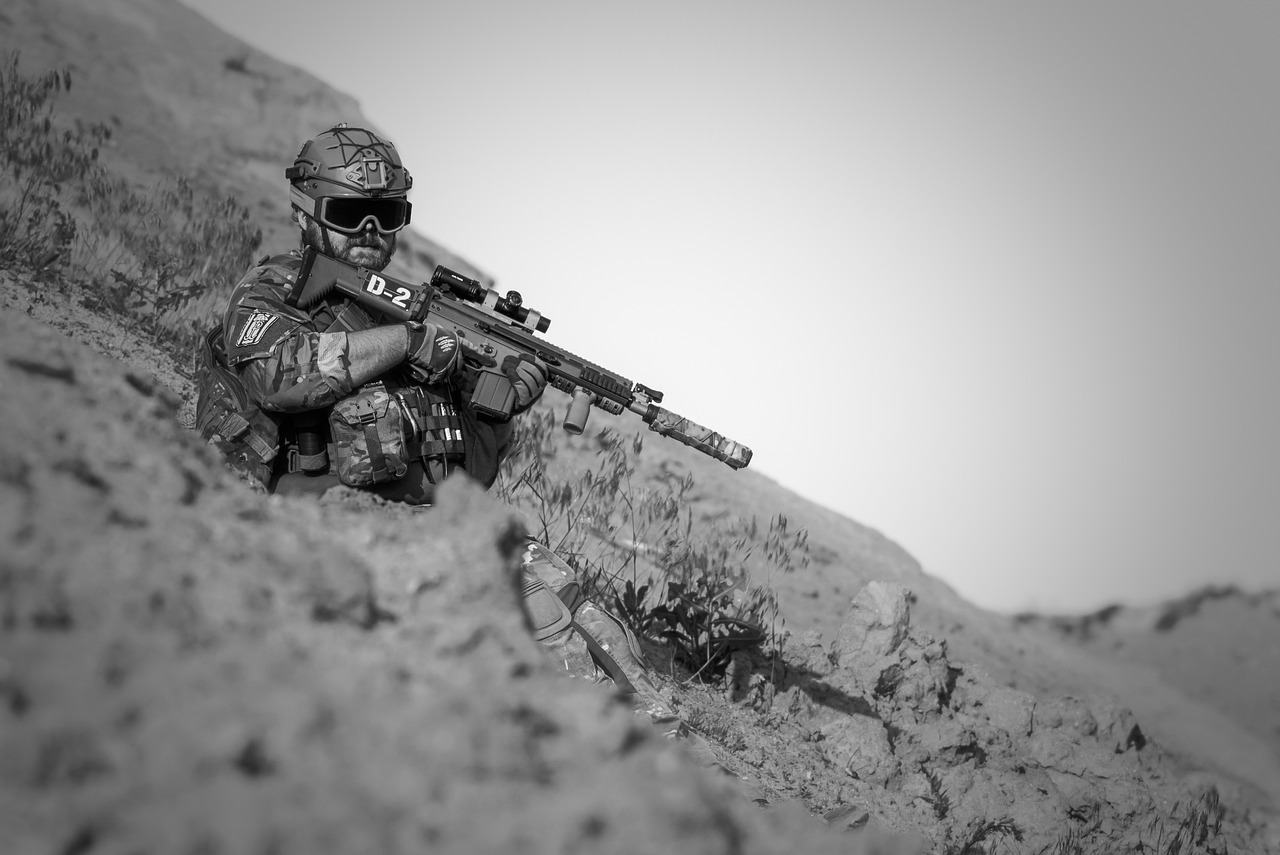gun: (279, 240, 755, 474)
